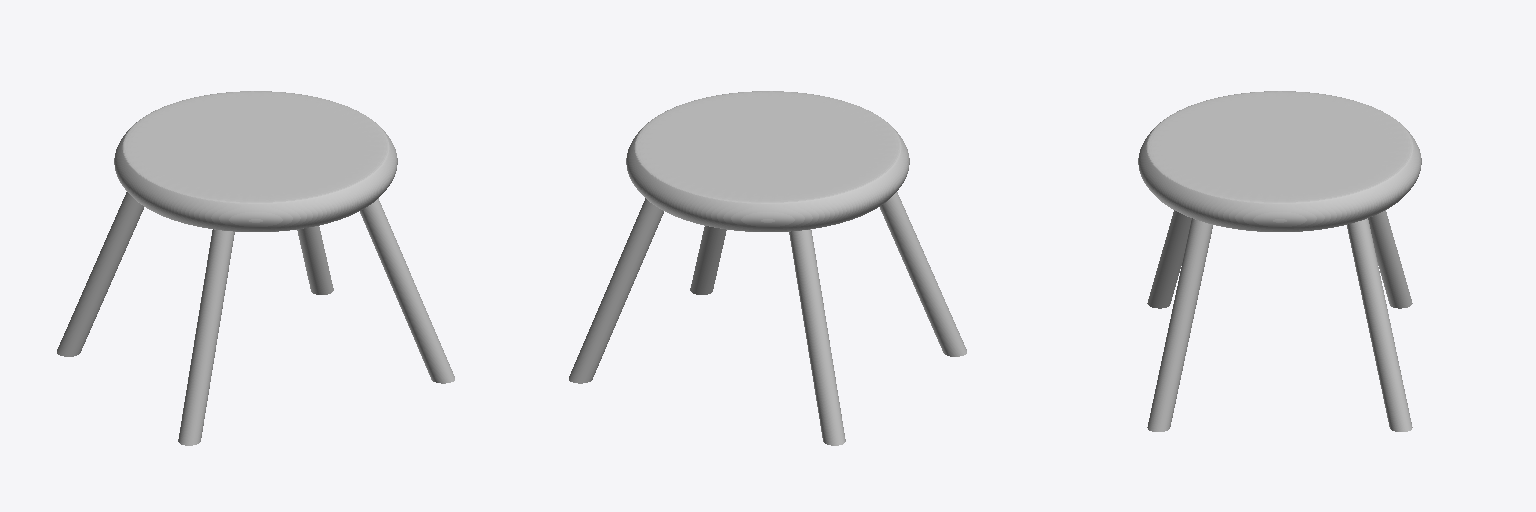
File: table.obj
3 views of the same model, side by side, from view 1: azimuth 30°, elevation 25°; view 2: azimuth 150°, elevation 25°; view 3: azimuth 270°, elevation 25° (orthographic).
Visible parts, largest first — view 1: Circle_Circle.001; view 2: Circle_Circle.001; view 3: Circle_Circle.001.
Boxes of the visible parts, <box> form: Circle_Circle.001: <box>57,91,454,445</box>; Circle_Circle.001: <box>569,91,966,445</box>; Circle_Circle.001: <box>1138,91,1421,431</box>.
Size of the model in its own units: 11.76 by 8.97 by 10.52.